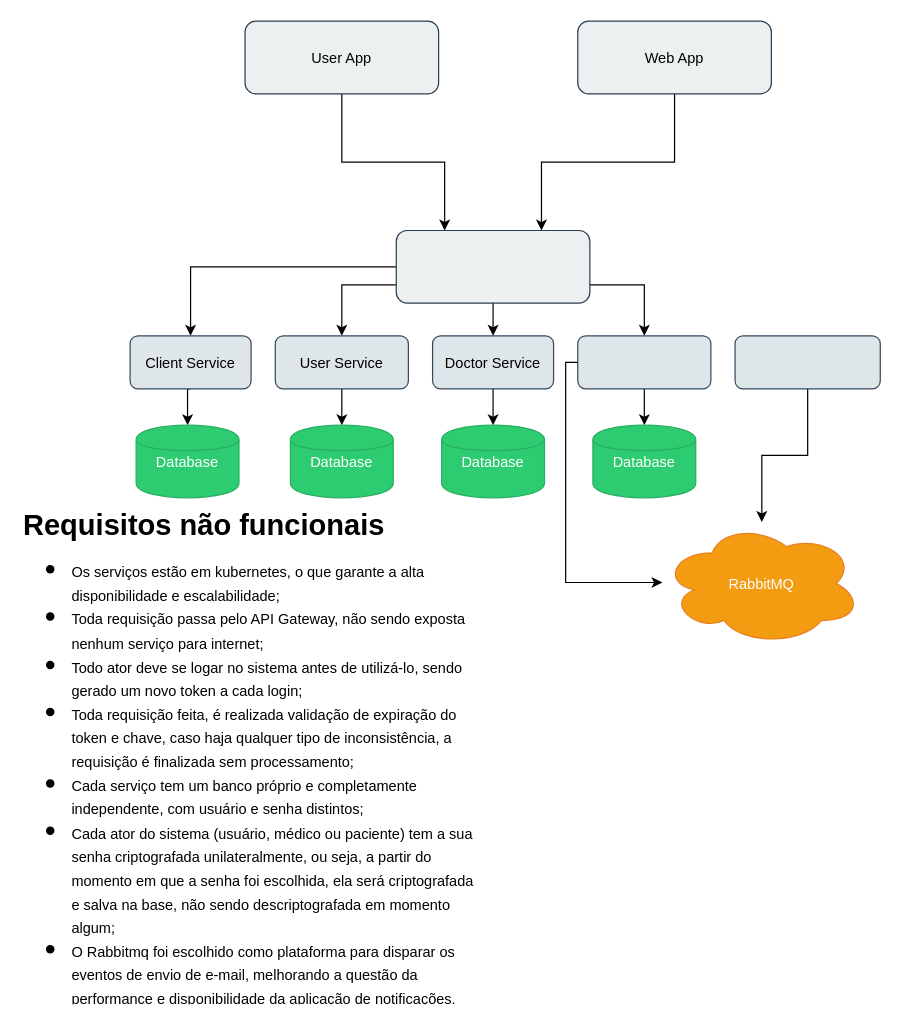
The diagram is 901 pixels wide and 1027 high, and some of its shapes have lost their labels. The centre of each missing label's shape, as x and y in pixels:
"API Gateway (Ocelot)" belongs at (492,266).
"Consultation Service" belongs at (644,362).
"Notification Service" belongs at (807,362).
